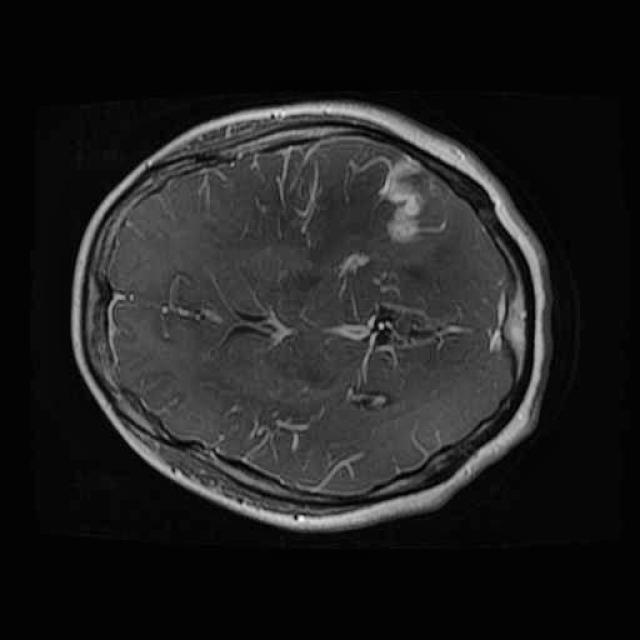Non-Tumor: (366, 139, 439, 259)
